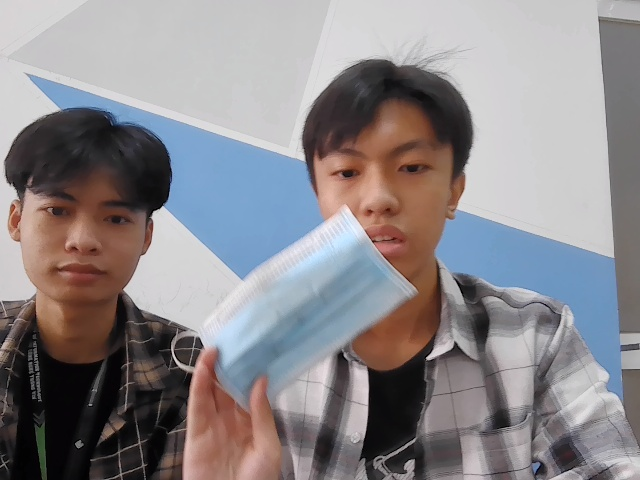human: (301, 53, 462, 282), (11, 105, 167, 300)
mask: (185, 212, 424, 386)
